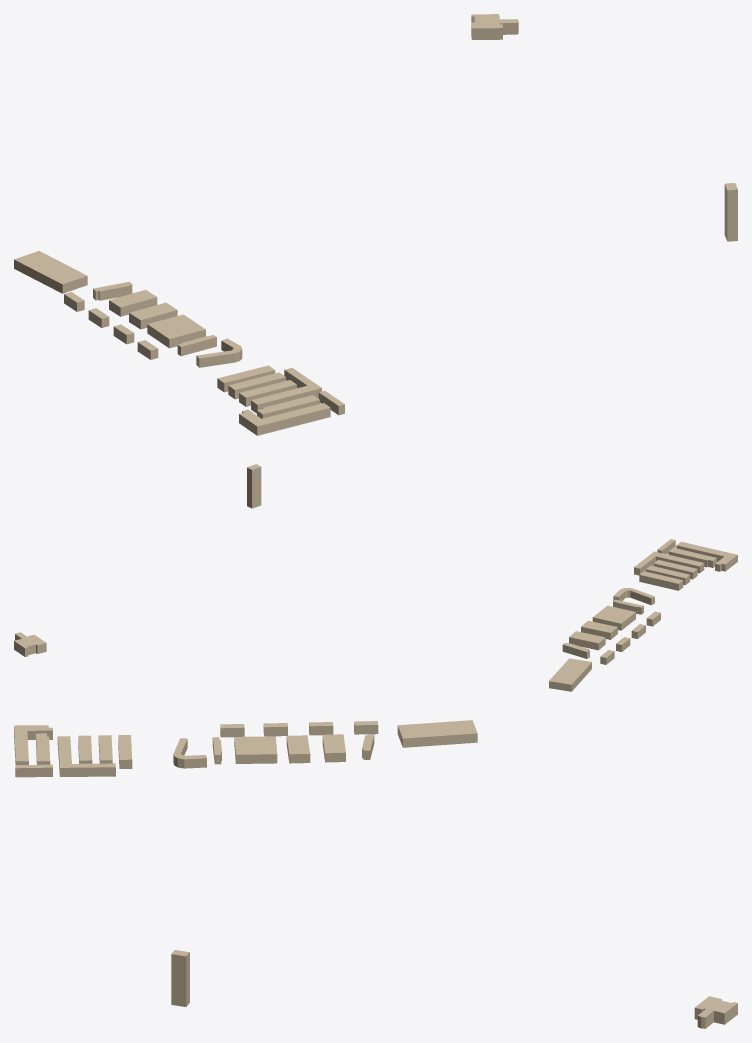
The model's file is -23_24-estimated-coarse.glb.
3 views of the same model, one above another, from view 1: azimuth 30°, elevation 25°; view 2: azimuth 150°, elevation 25°; view 3: azimuth 270°, elevation 25° (orthographic). The views are drawn at different scales.
Bounding box in the file's own units: 836 × 66 × 853.
